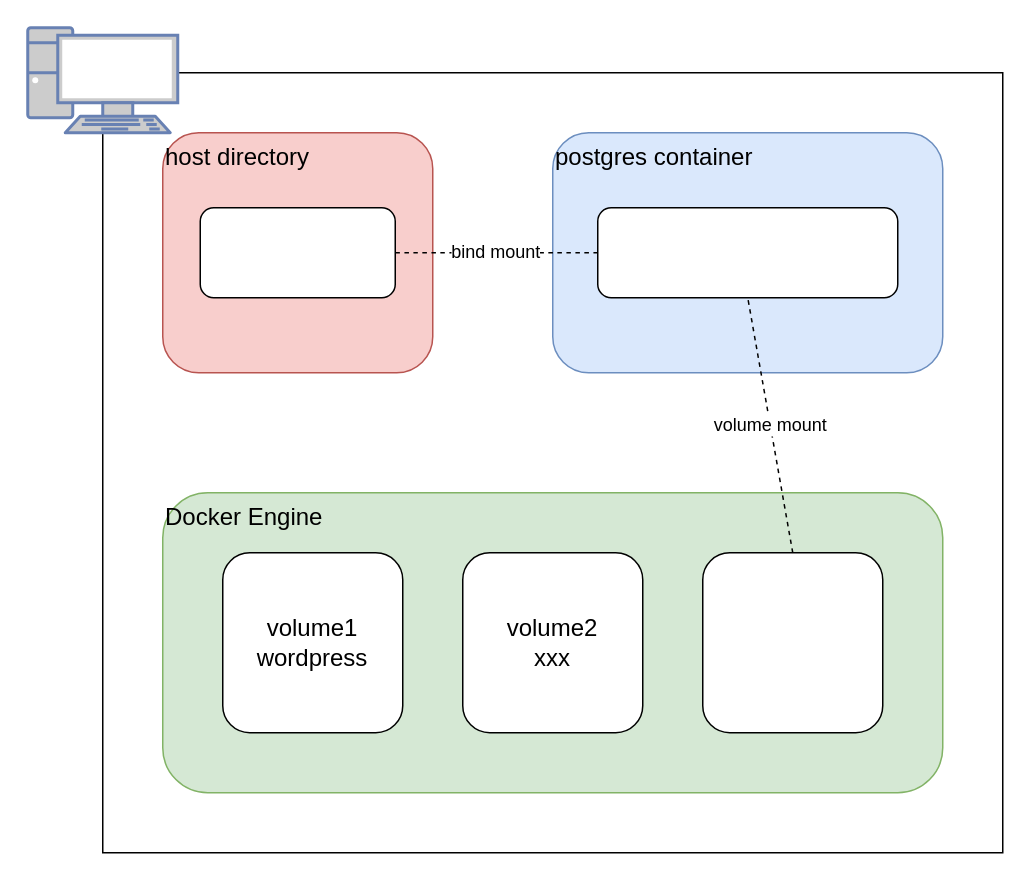
Image size: 1029x879. Some labels were removed from this diagram. Each missing label, with the centre of its shape:
volume3 postgres volume: the point at 792,642
コンテナのディレクトリ: the point at 747,252
パス: the point at 297,252
